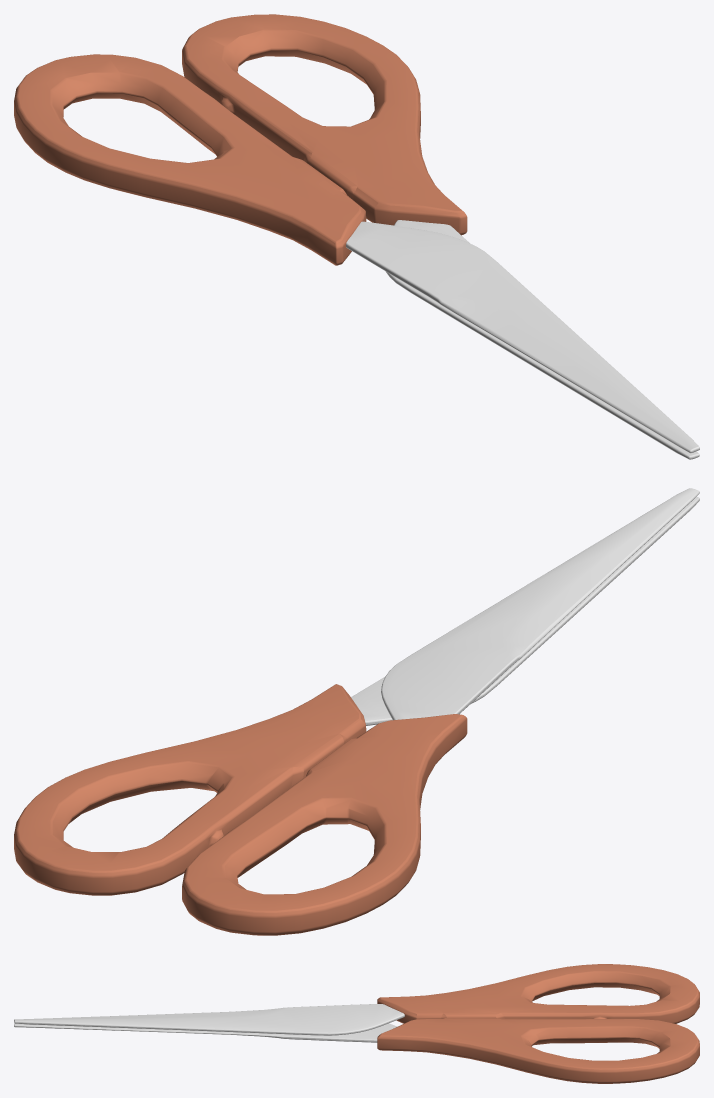
The model's file is scissors_pink.fbx.
3 views of the same model, one above another, from view 1: azimuth 30°, elevation 25°; view 2: azimuth 150°, elevation 25°; view 3: azimuth 270°, elevation 25° (orthographic). The views are drawn at different scales.
Visible parts, largest first — view 1: scissors; view 2: scissors; view 3: scissors.
Part boxes in pixels (x1=…): scissors: x1=14, y1=14, x2=699, y2=459; scissors: x1=14, y1=488, x2=699, y2=935; scissors: x1=14, y1=964, x2=699, y2=1083.
Bounding box in the file's own units: 744 × 54.81 × 2022.
